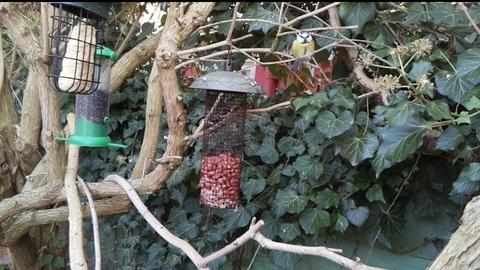blue tit: (289, 30, 315, 71)
